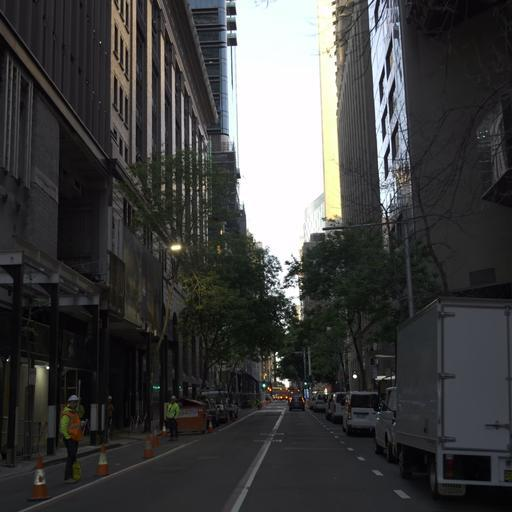Street light: (321, 213, 415, 317), (157, 236, 183, 434), (169, 238, 182, 252)
